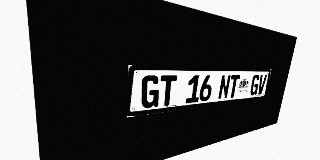1: (186, 75, 202, 103)
6: (199, 75, 214, 102)
G: (140, 75, 160, 109), (249, 75, 260, 96)
N: (218, 75, 231, 99)
T: (159, 75, 177, 107), (228, 75, 240, 98)
V: (257, 75, 267, 95)
